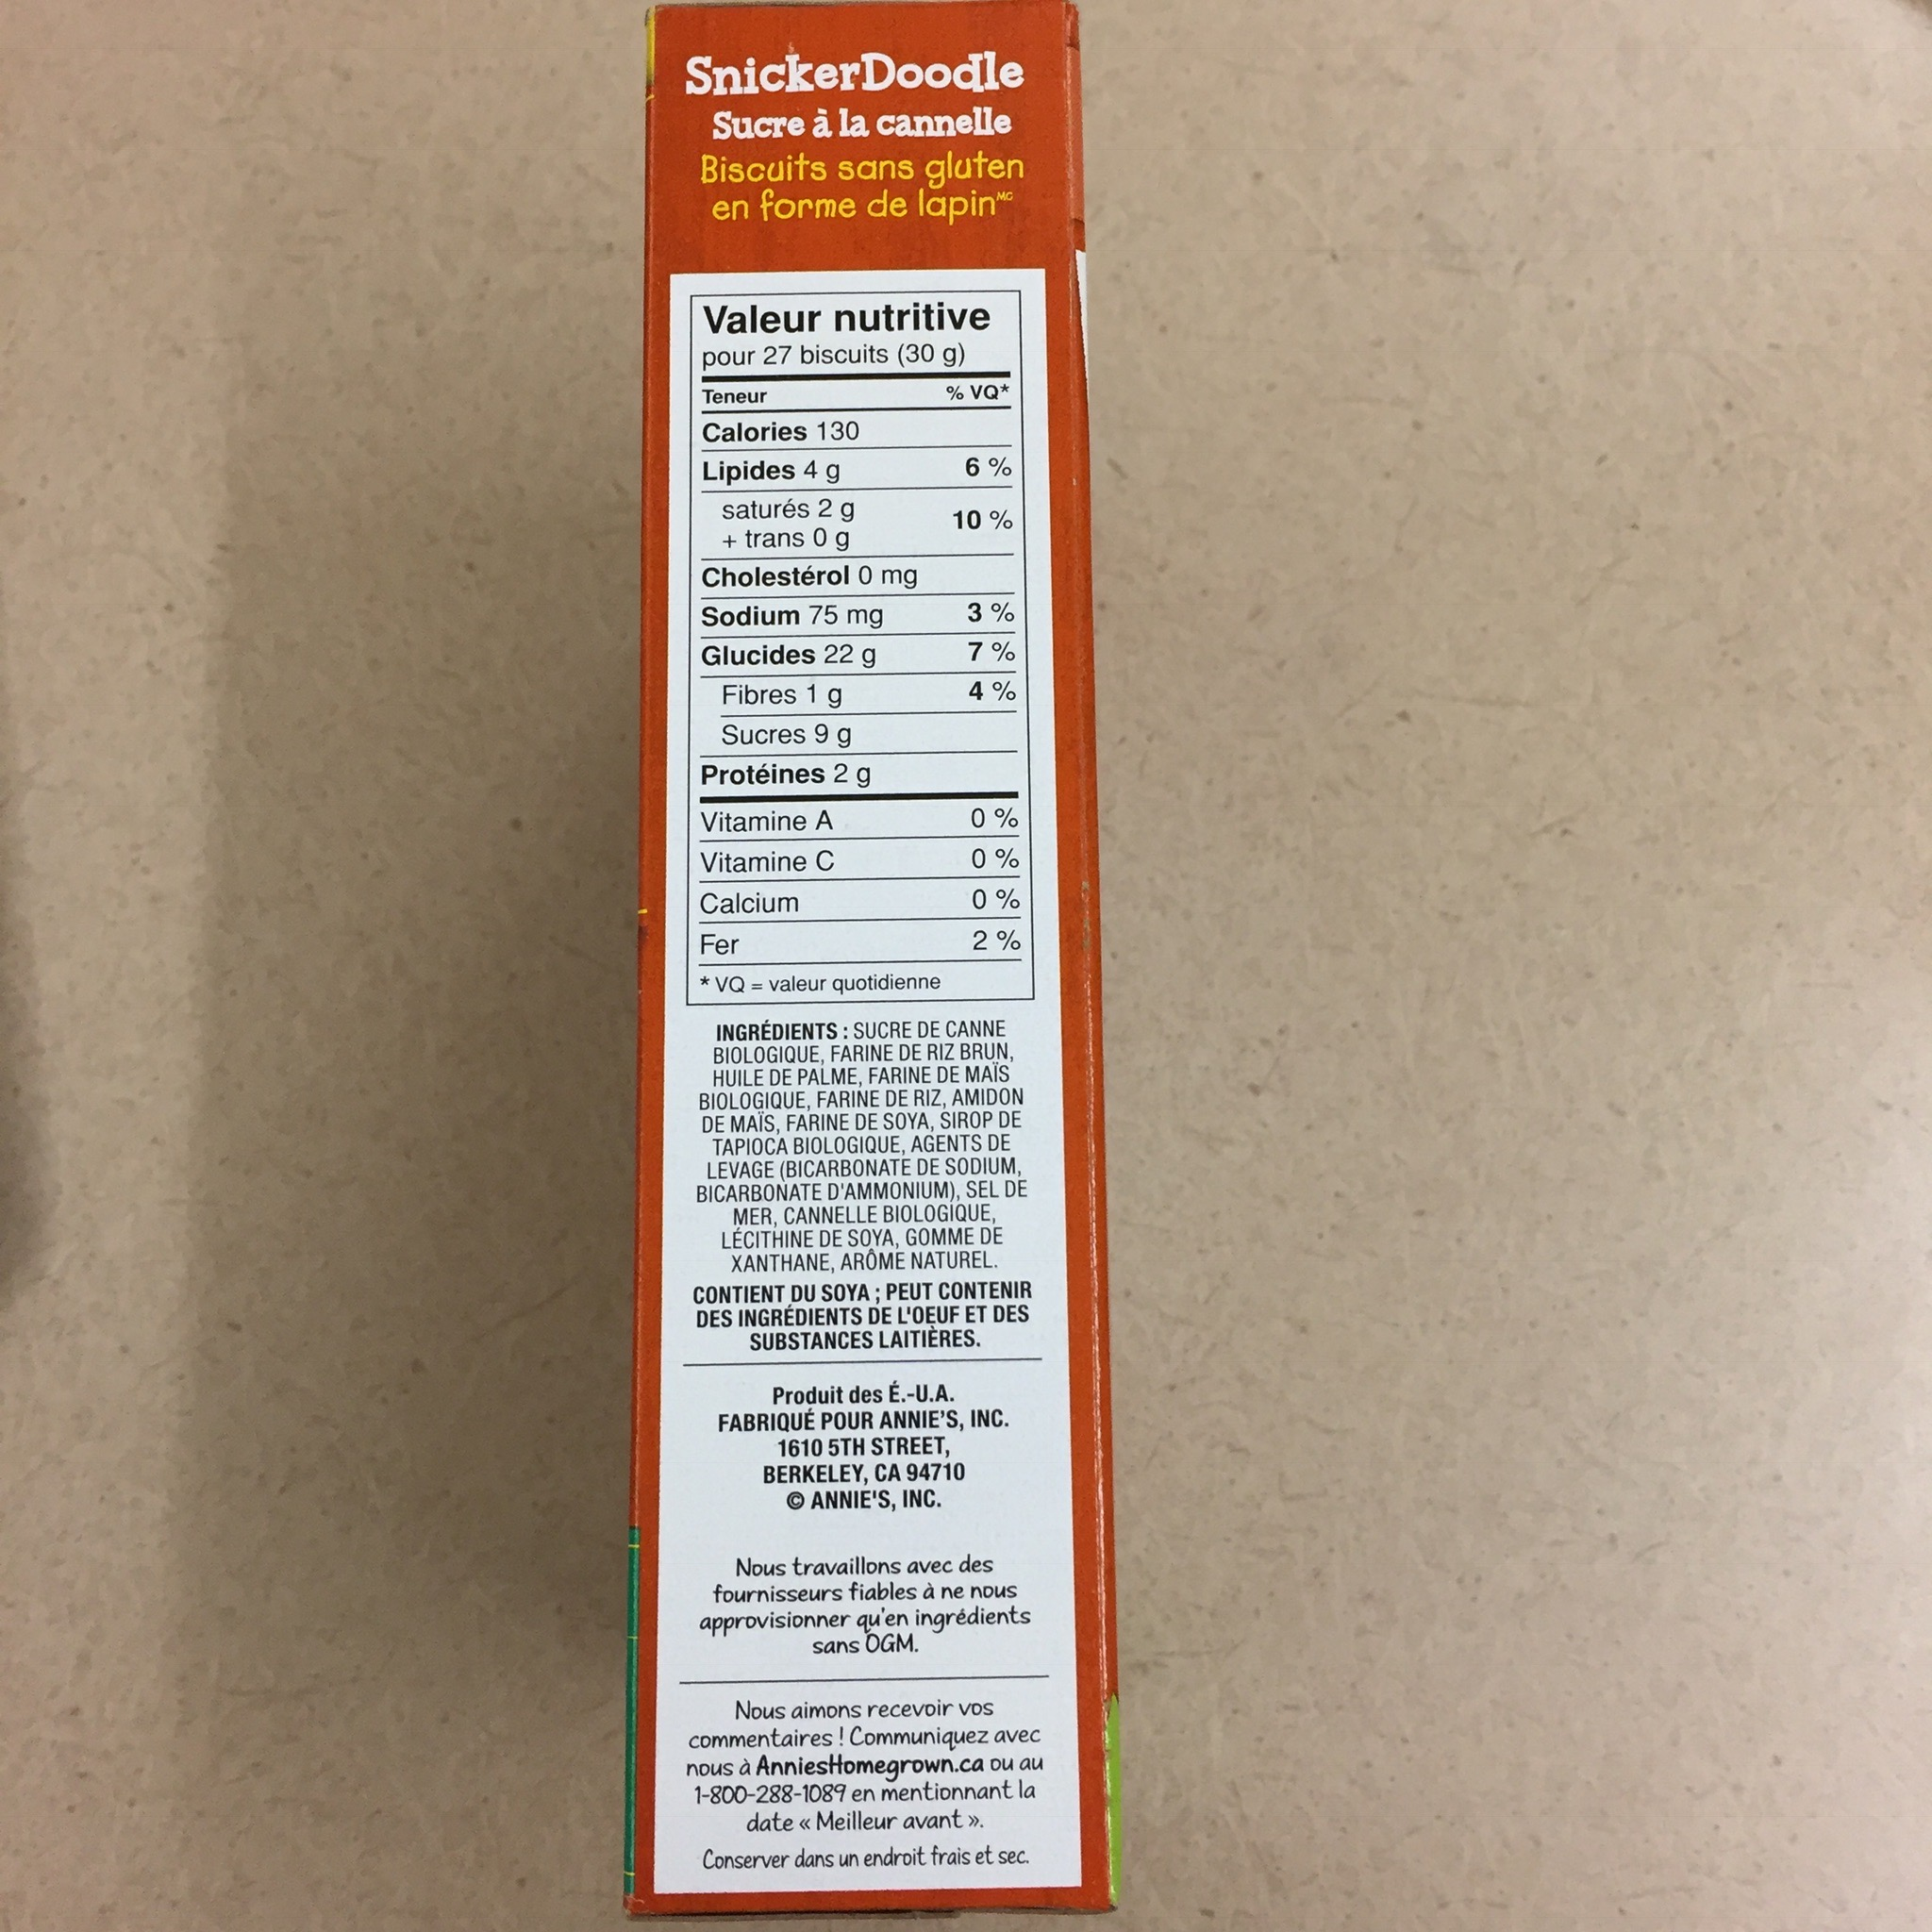annies_snickerdoodle_cinnamon_sugar: (617, 2, 1132, 1921)
